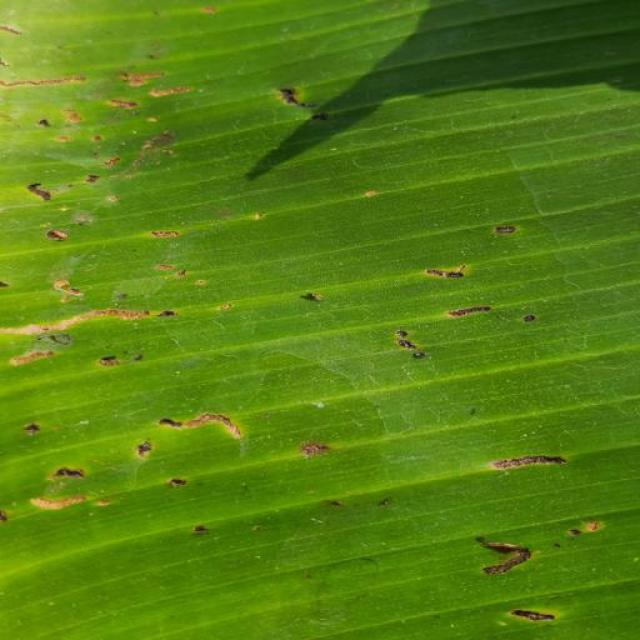Black_rot: (0, 14, 266, 575), (435, 429, 640, 640), (282, 211, 562, 364), (269, 69, 464, 219), (282, 391, 424, 564)
